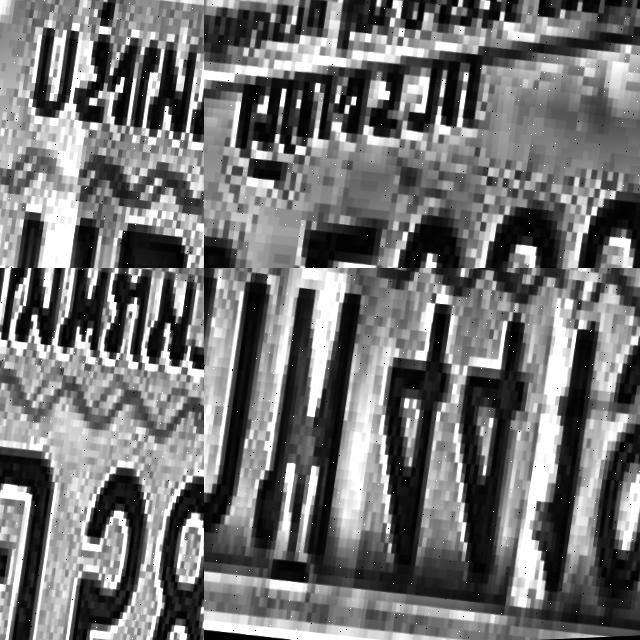license-plate: (204, 268, 640, 640), (204, 0, 640, 268), (0, 268, 204, 640), (0, 0, 204, 268)
